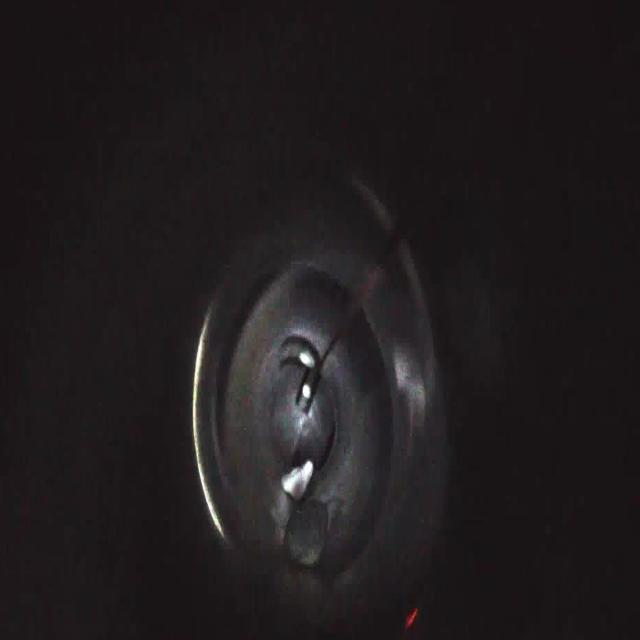impurity: (282, 495, 332, 571), (276, 458, 318, 499)
